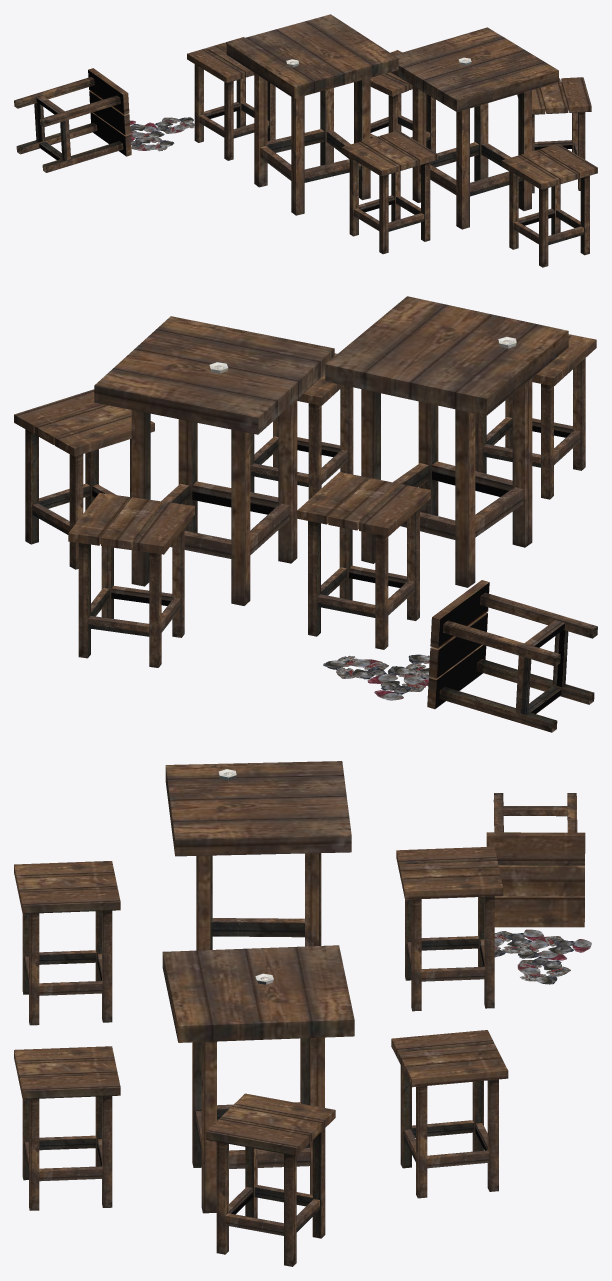
Rendered from tables.glb.
3 views of the same model, one above another, from view 1: azimuth 30°, elevation 25°; view 2: azimuth 150°, elevation 25°; view 3: azimuth 270°, elevation 25° (orthographic). The views are drawn at different scales.
Bounding box in the file's own units: 3.42 × 1.36 × 2.58.
Materials: 2 (2 with a texture image).
